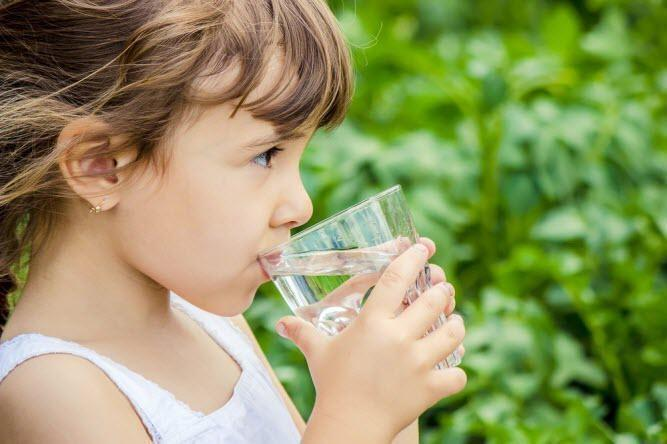glass-normal: (259, 184, 462, 376)
